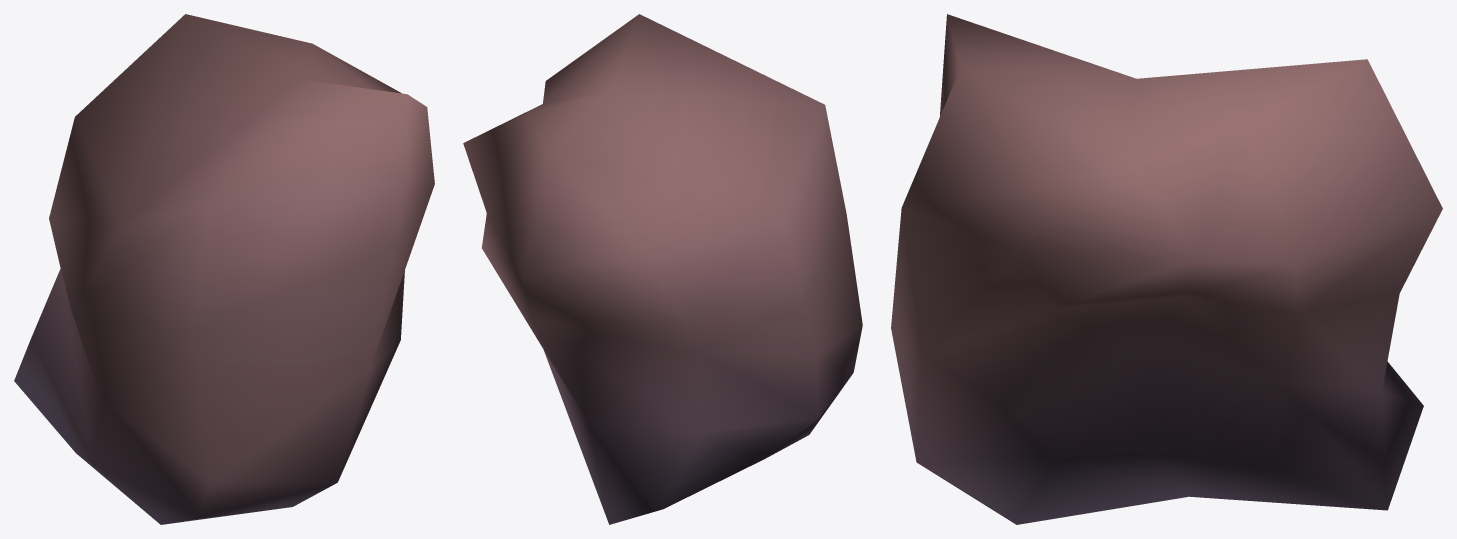
File: Rock 03.glb
3 views of the same model, side by side, from view 1: azimuth 30°, elevation 25°; view 2: azimuth 150°, elevation 25°; view 3: azimuth 270°, elevation 25° (orthographic). The views are drawn at different scales.
Parts seen in each view (by area): view 1: Cube; view 2: Cube; view 3: Cube.
Part boxes in pixels (x1,y1,x2,y2): Cube: [14, 14, 434, 524]; Cube: [463, 14, 862, 524]; Cube: [891, 14, 1442, 524].
Bounding box in the file's own units: 1.81 × 1.98 × 1.88.
1 material, 1 textured.
